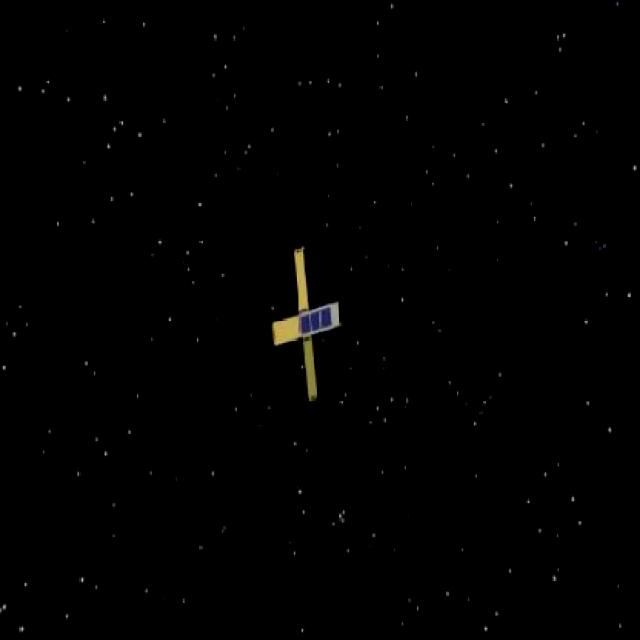medium_debris: (265, 244, 350, 404)
